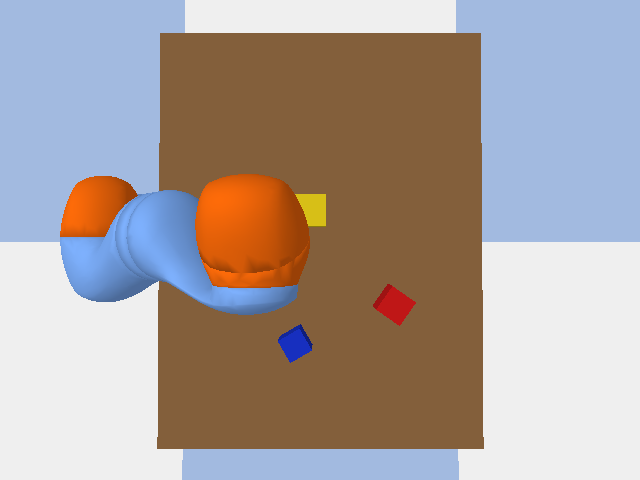blue_obj: (278, 324, 312, 362)
red_obj: (373, 284, 415, 325)
yellow_obj: (295, 194, 325, 226)
